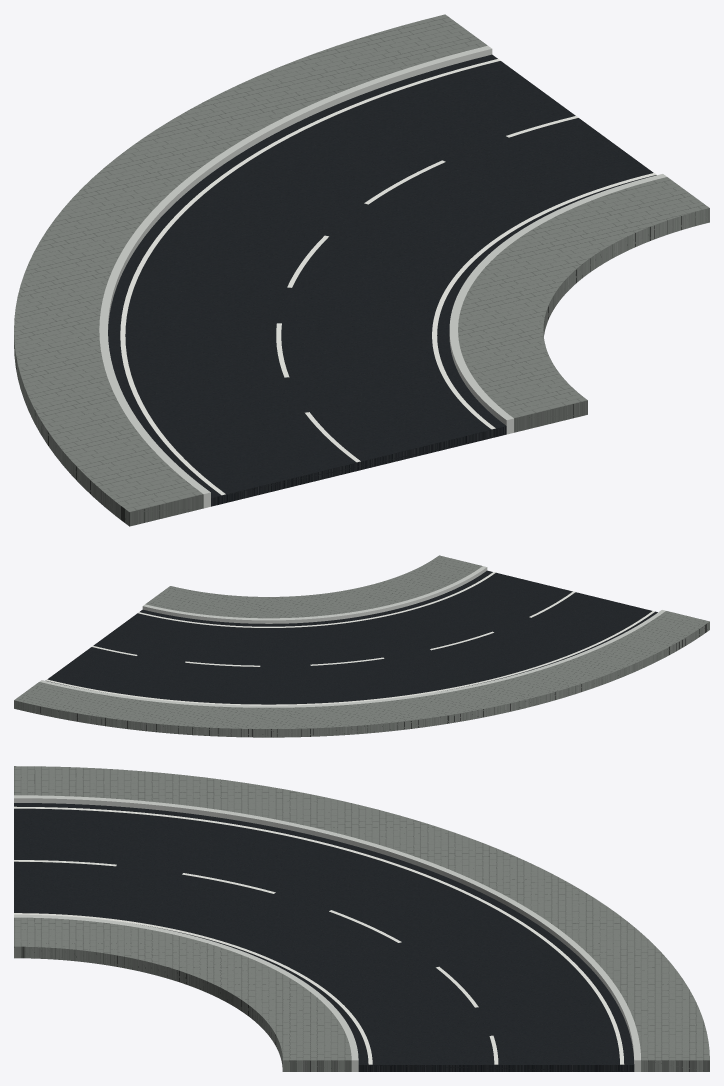
The model's file is RK_Road_Curve90_R14.fbx.
The picture shows the model from 3 angles, top to bottom: view 1: azimuth 30°, elevation 25°; view 2: azimuth 150°, elevation 25°; view 3: azimuth 270°, elevation 25°; orthographic projection. The views are drawn at different scales.
Parts seen in each view (by area): view 1: COL_Asphalt.002, COL_Paving.001, COL_Concrete.001, Markings_White.002, Curb_Concrete.001; view 2: COL_Asphalt.002, COL_Paving.001, COL_Concrete.001, Markings_White.002, Curb_Concrete.001; view 3: COL_Asphalt.002, COL_Paving.001, COL_Concrete.001, Markings_White.002, Curb_Concrete.001.
Part boxes in pixels (left/top/right/bottom): COL_Asphalt.002: left=108, top=54, right=656, bottom=506; COL_Paving.001: left=14, top=14, right=709, bottom=526; COL_Concrete.001: left=99, top=46, right=666, bottom=508; Markings_White.002: left=120, top=58, right=656, bottom=495; Curb_Concrete.001: left=99, top=45, right=666, bottom=493; COL_Asphalt.002: left=45, top=570, right=657, bottom=704; COL_Paving.001: left=14, top=555, right=709, bottom=737; COL_Concrete.001: left=58, top=566, right=664, bottom=707; Markings_White.002: left=45, top=572, right=655, bottom=705; Curb_Concrete.001: left=39, top=566, right=665, bottom=707; COL_Asphalt.002: left=14, top=803, right=634, bottom=1071; COL_Paving.001: left=14, top=766, right=709, bottom=1071; COL_Concrete.001: left=14, top=795, right=640, bottom=1071; Markings_White.002: left=14, top=806, right=624, bottom=1064; Curb_Concrete.001: left=14, top=795, right=640, bottom=1060.
Size of the model in its own units: 2020 by 37 by 2020.
Materials: 4 (2 with a texture image).
